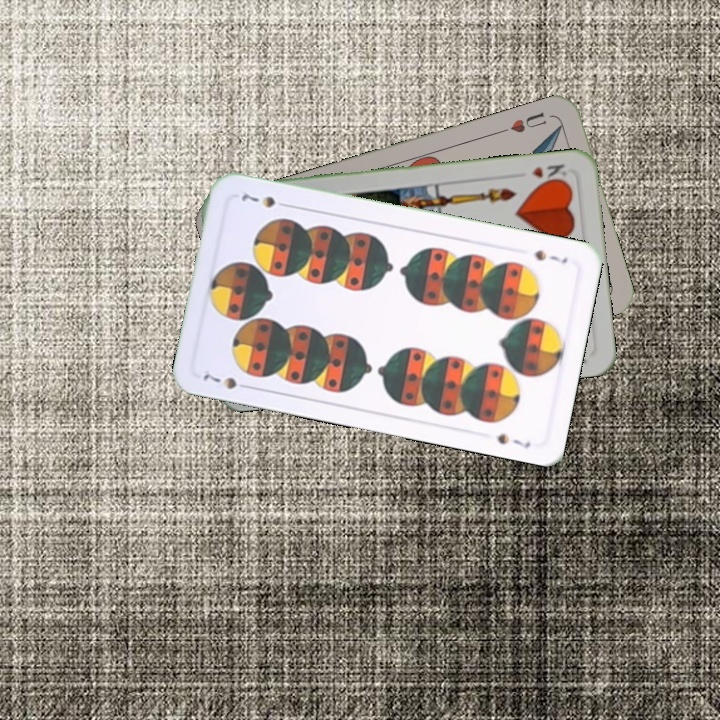HK: (527, 160, 571, 187)
HU: (496, 108, 550, 136)
S7: (196, 368, 255, 392), (530, 245, 570, 266)
